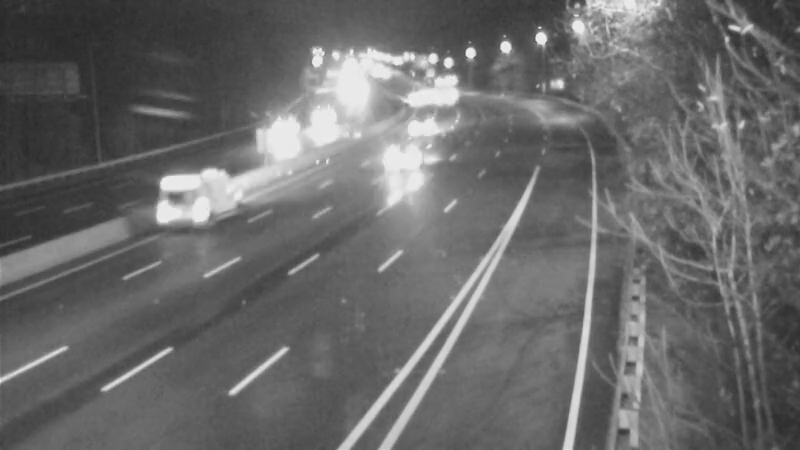vehicle: (361, 118, 441, 198), (149, 158, 229, 238), (420, 61, 470, 111), (421, 73, 471, 123), (384, 71, 434, 121), (385, 101, 435, 151), (262, 107, 312, 157), (307, 92, 357, 142)
